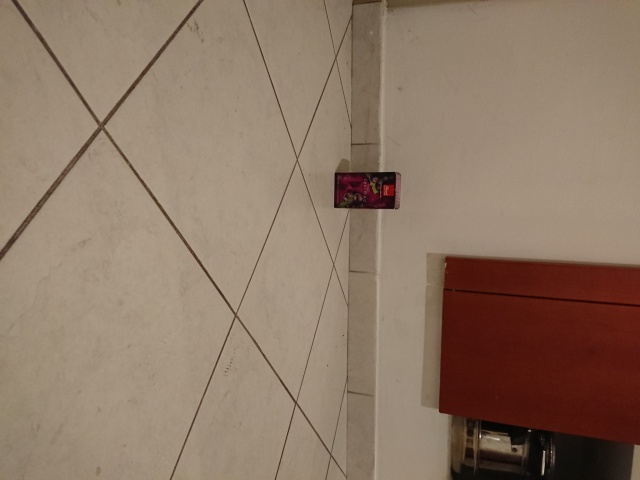Franck Black Currant Tea 60g: (331, 169, 404, 211)
